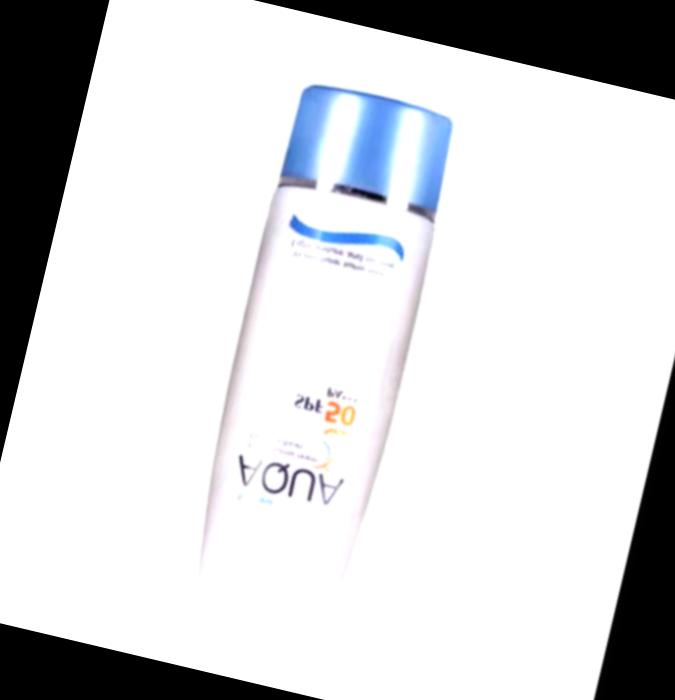cosmetic: (176, 79, 470, 640)
